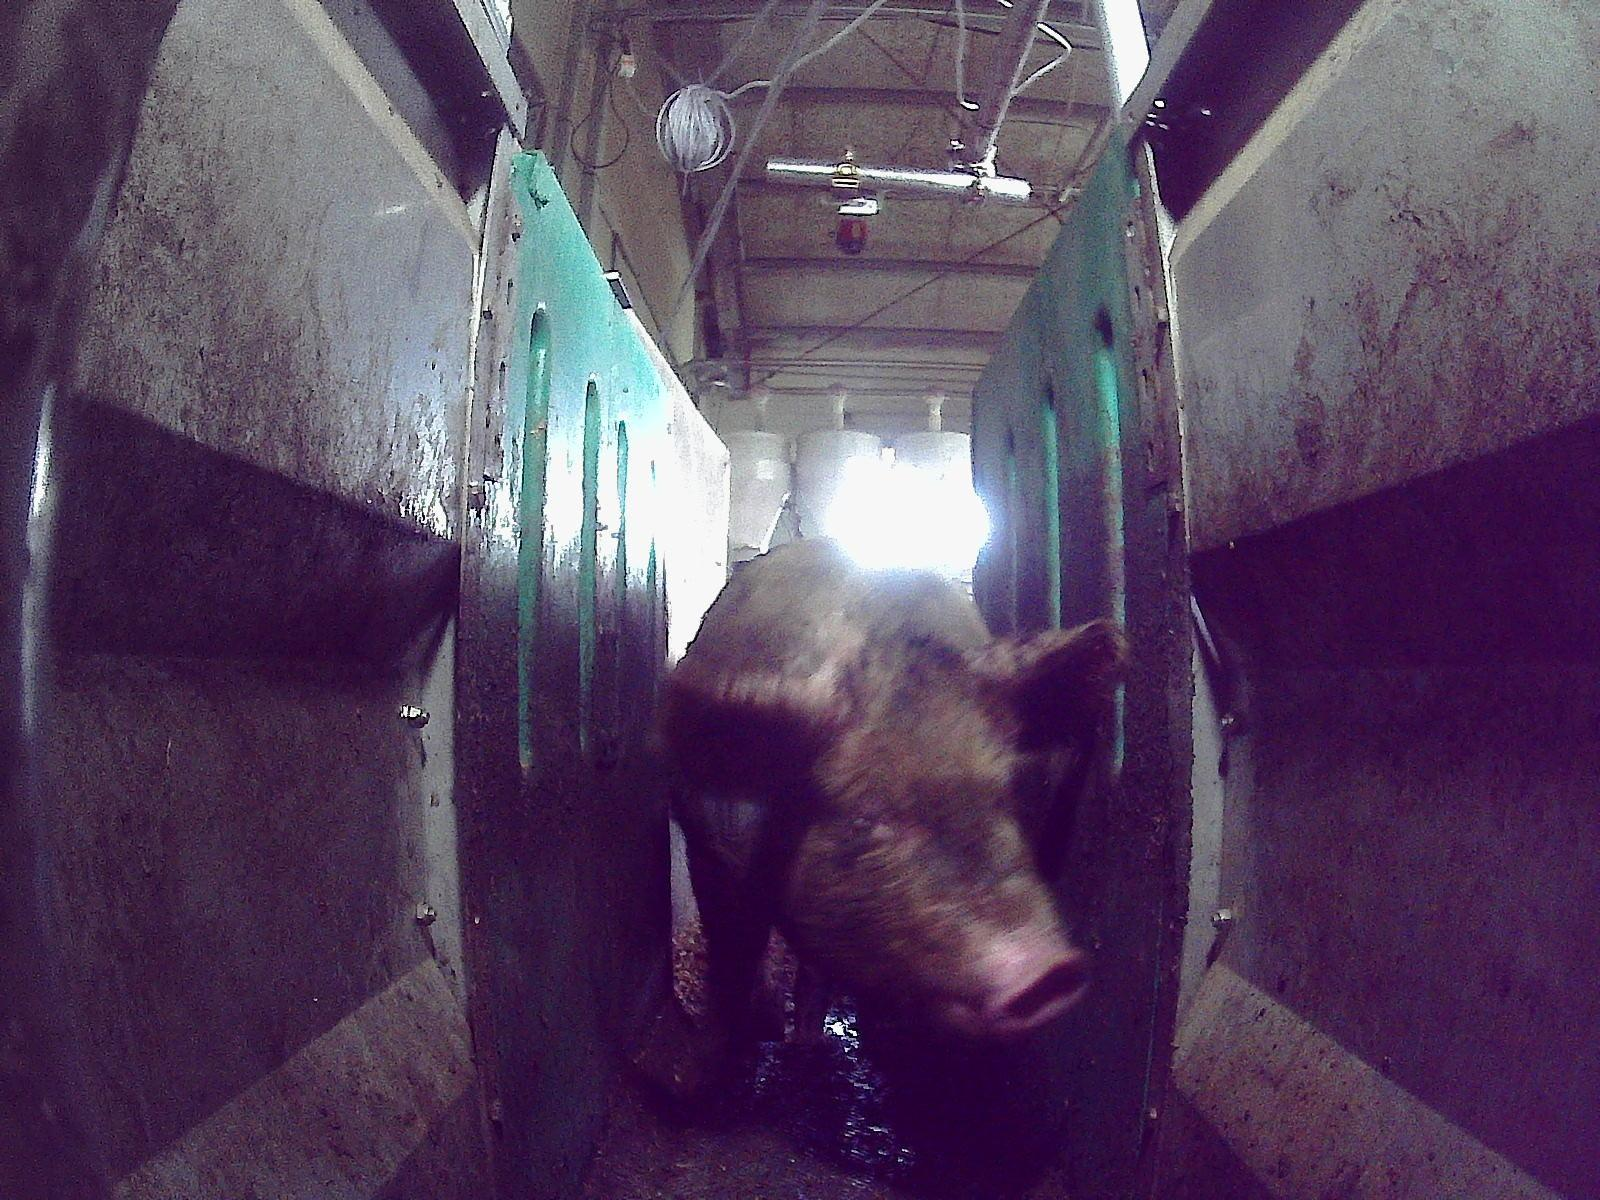Face: (755, 632, 1092, 1038)
